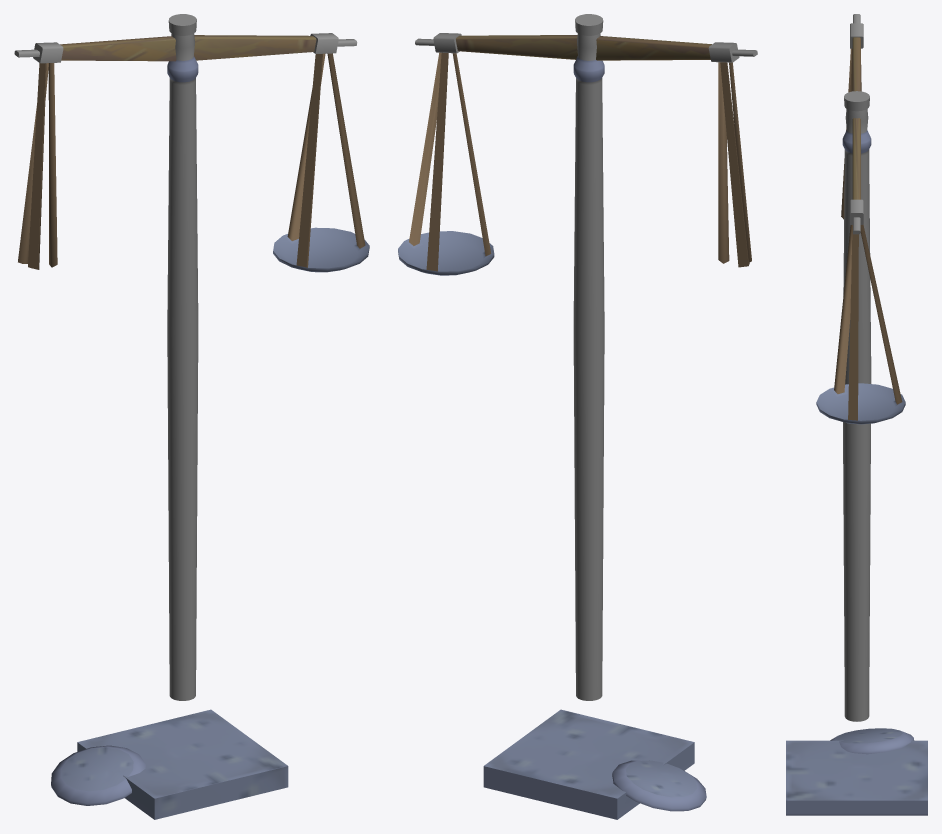
File: Balanca.fbx
3 views of the same model, side by side, from view 1: azimuth 30°, elevation 25°; view 2: azimuth 150°, elevation 25°; view 3: azimuth 270°, elevation 25° (orthographic). The views are drawn at different scales.
Parts seen in each view (by area): view 1: Balanca; view 2: Balanca; view 3: Balanca.
Part boxes in pixels (bbox=[...]): Balanca: bbox=[14, 14, 369, 819]; Balanca: bbox=[398, 14, 757, 819]; Balanca: bbox=[786, 14, 927, 815].
Size of the model in its own units: 100 by 38.45 by 210.
